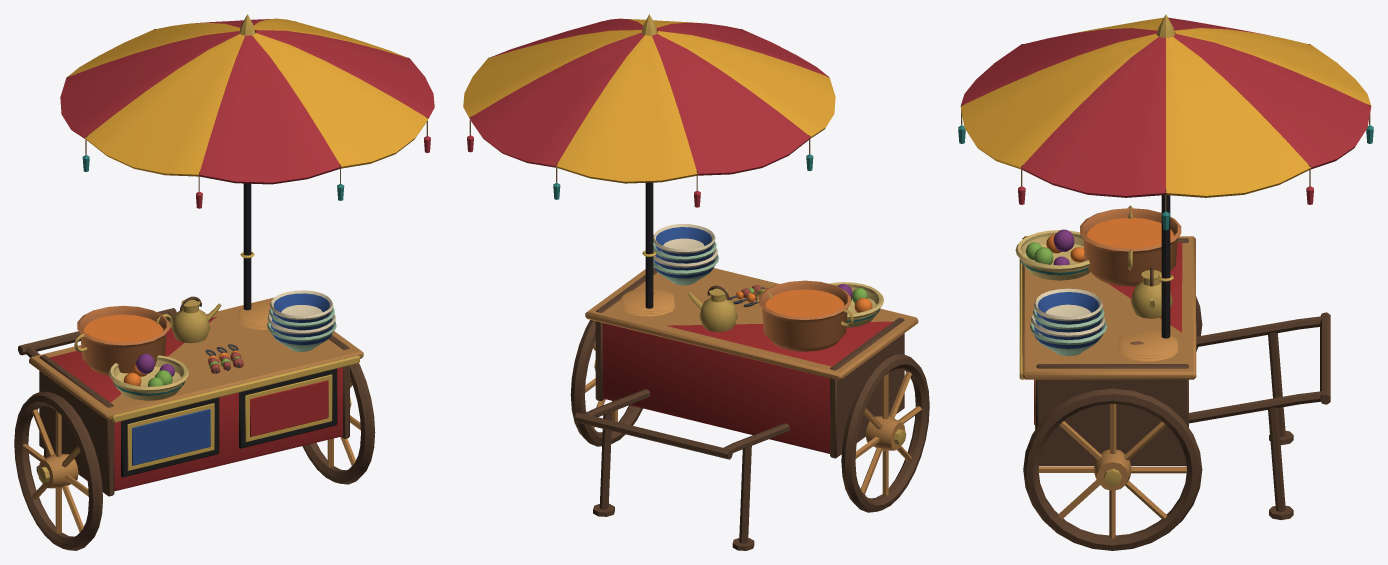
Rendered from deco_food_cart.fbx.
3 renders of one model, left to right at view 1: azimuth 30°, elevation 25°; view 2: azimuth 150°, elevation 25°; view 3: azimuth 270°, elevation 25°, orthographic. The views are drawn at different scales.
Visible parts, largest first — view 1: FoodCart_Canopy, FoodCart_Cart, FoodCart_Pots, FoodCart_WheelL, FoodCart_Food, FoodCart_WheelR; view 2: FoodCart_Canopy, FoodCart_Cart, FoodCart_Pots, FoodCart_WheelL, FoodCart_Food, FoodCart_WheelR; view 3: FoodCart_Canopy, FoodCart_Cart, FoodCart_WheelR, FoodCart_Pots, FoodCart_Food.
Part boxes in pixels (<box>): FoodCart_Canopy: <box>60,14,434,310</box>; FoodCart_Cart: <box>18,297,363,496</box>; FoodCart_Pots: <box>74,290,336,375</box>; FoodCart_WheelL: <box>14,391,102,550</box>; FoodCart_Food: <box>108,302,270,400</box>; FoodCart_WheelR: <box>302,363,375,484</box>; FoodCart_Canopy: <box>463,14,835,313</box>; FoodCart_Cart: <box>574,267,918,550</box>; FoodCart_Pots: <box>653,224,853,351</box>; FoodCart_WheelL: <box>841,354,929,512</box>; FoodCart_Food: <box>620,282,883,327</box>; FoodCart_WheelR: <box>570,320,642,446</box>; FoodCart_Canopy: <box>958,14,1373,338</box>; FoodCart_Cart: <box>1019,236,1330,520</box>; FoodCart_WheelR: <box>1023,388,1202,550</box>; FoodCart_Pots: <box>1030,205,1181,356</box>; FoodCart_Food: <box>1015,229,1178,361</box>.
Size of the model in its own units: 283 by 315 by 234.
